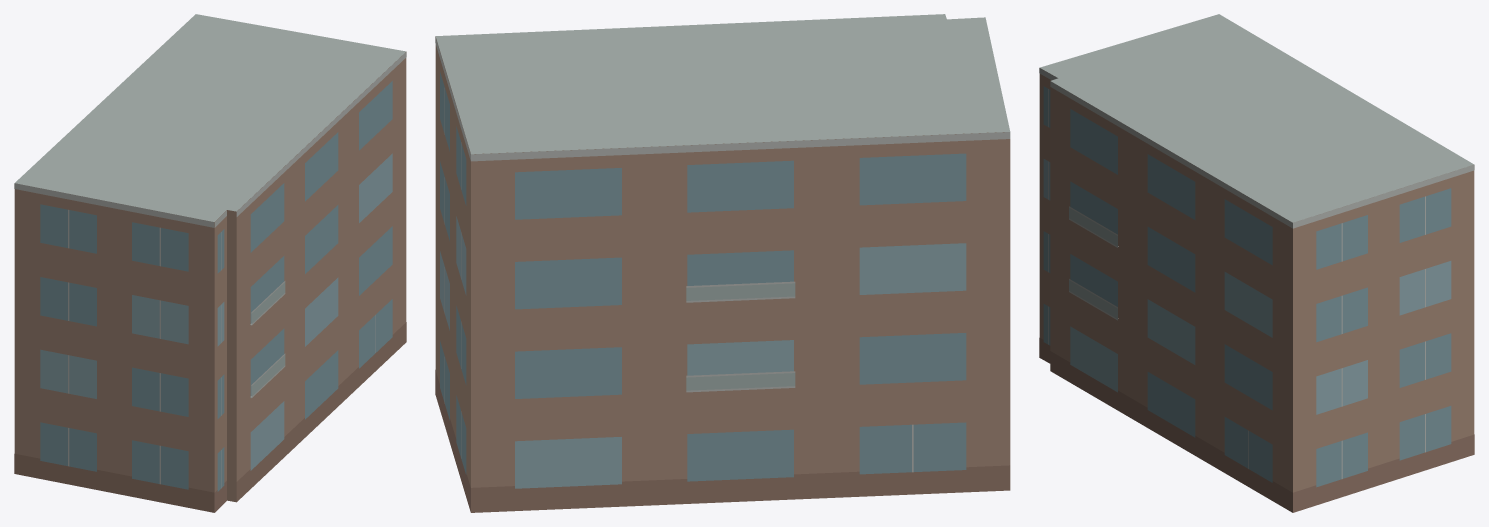
File: survey-upis-32506561.glb
3 renders of one model, left to right at view 1: azimuth 30°, elevation 25°; view 2: azimuth 150°, elevation 25°; view 3: azimuth 270°, elevation 25°, orthographic. The views are drawn at different scales.
Visible parts, largest first — view 1: survey-upis-32506561.tmp; view 2: survey-upis-32506561.tmp; view 3: survey-upis-32506561.tmp.
Boxes of the visible parts, x1,y1,x2,y2 form: survey-upis-32506561.tmp: [14, 14, 406, 512]; survey-upis-32506561.tmp: [435, 14, 1010, 512]; survey-upis-32506561.tmp: [1039, 14, 1474, 512].
Size of the model in its own units: 18.85 by 12.2 by 16.59.
